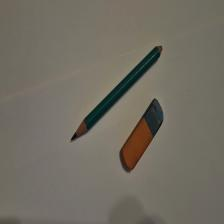eraser: (121, 99, 165, 172)
pencil: (72, 45, 164, 142)
